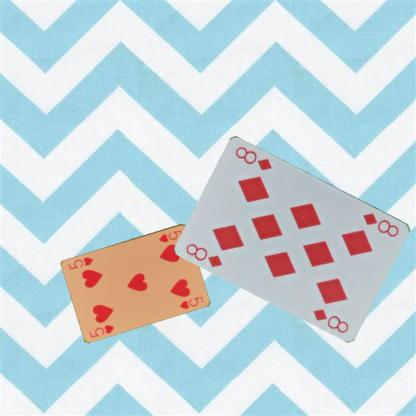5h: (86, 322, 116, 338), (157, 228, 184, 243)
8d: (360, 209, 401, 238), (183, 240, 224, 269)
